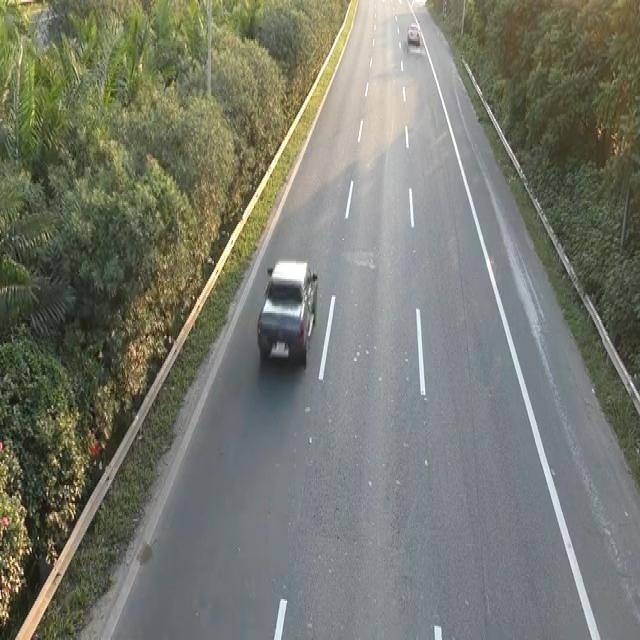car: (255, 254, 319, 368)
